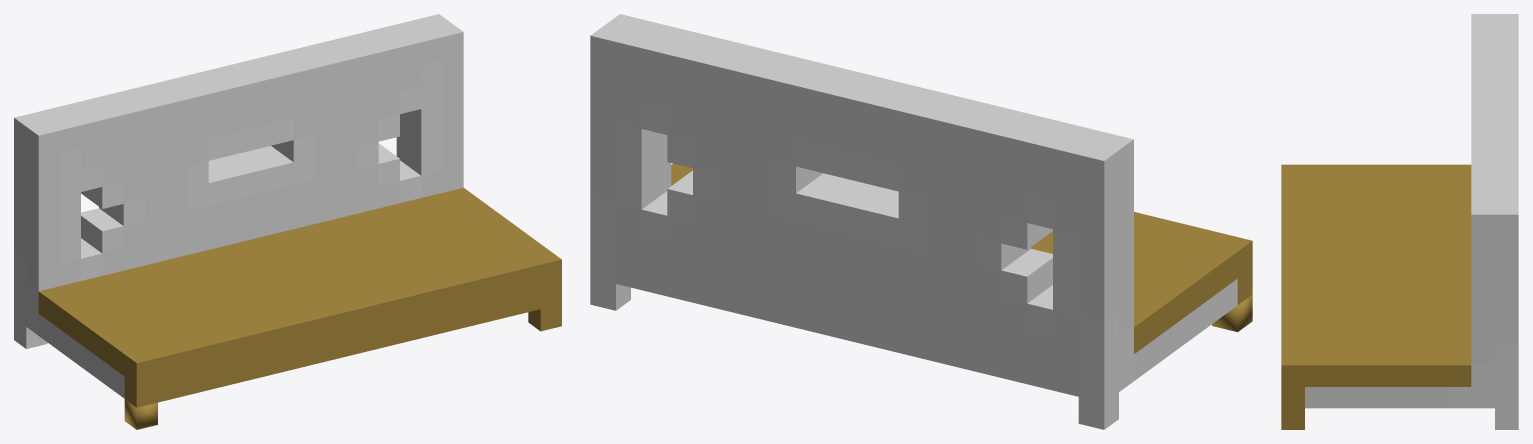
The model's file is Bench.fbx.
The picture shows the model from 3 angles, left to right: view 1: azimuth 30°, elevation 25°; view 2: azimuth 150°, elevation 25°; view 3: azimuth 270°, elevation 25°; orthographic projection. The views are drawn at different scales.
Parts seen in each view (by area): view 1: Bench:cube_3, Bench:cube_274, Bench:cube_201, Bench:cube_263, Bench:cube_264, Bench:cube_268, Bench:cube_270, Bench:cube_241, Bench:cube_266, Bench:cube_272, Bench:cube_243, Bench:cube_1 (+60 smaller); view 2: Bench:cube_202, Bench:cube_275, Bench:cube_244, Bench:cube_183, Bench:cube_188, Bench:cube_267, Bench:cube_271, Bench:cube_273, Bench:cube_185, Bench:cube_242, Bench:cube_187, Bench:cube_265 (+168 smaller); view 3: Bench:cube_177, Bench:cube_178, Bench:cube_181, Bench:cube_182, Bench:cube_641, Bench:cube_642, Bench:cube_175, Bench:cube_176, Bench:cube_179, Bench:cube_180, Bench:cube_637, Bench:cube_638 (+214 smaller).
Boxes of the visible parts, left/top/right/bottom form: Bench:cube_3: left=124, top=349, right=157, bottom=385; Bench:cube_274: left=26, top=121, right=59, bottom=157; Bench:cube_201: left=90, top=217, right=123, bottom=253; Bench:cube_263: left=26, top=260, right=59, bottom=291; Bench:cube_264: left=26, top=238, right=59, bottom=268; Bench:cube_268: left=26, top=193, right=59, bottom=224; Bench:cube_270: left=26, top=171, right=59, bottom=202; Bench:cube_241: left=409, top=145, right=442, bottom=175; Bench:cube_266: left=26, top=216, right=59, bottom=246; Bench:cube_272: left=26, top=149, right=59, bottom=179; Bench:cube_243: left=409, top=122, right=442, bottom=153; Bench:cube_1: left=124, top=399, right=157, bottom=429; Bench:cube_202: left=1001, top=259, right=1041, bottom=303; Bench:cube_275: left=1078, top=144, right=1118, bottom=187; Bench:cube_244: left=616, top=145, right=656, bottom=182; Bench:cube_183: left=1078, top=392, right=1118, bottom=429; Bench:cube_188: left=1078, top=312, right=1118, bottom=348; Bench:cube_267: left=1078, top=258, right=1118, bottom=295; Bench:cube_271: left=1078, top=204, right=1118, bottom=241; Bench:cube_273: left=1078, top=177, right=1118, bottom=214; Bench:cube_185: left=1078, top=365, right=1118, bottom=402; Bench:cube_242: left=616, top=172, right=656, bottom=209; Bench:cube_187: left=1078, top=339, right=1118, bottom=375; Bench:cube_265: left=1078, top=285, right=1118, bottom=322; Bench:cube_177: left=1328, top=355, right=1352, bottom=386; Bench:cube_178: left=1352, top=355, right=1376, bottom=386; Bench:cube_181: left=1423, top=355, right=1447, bottom=386; Bench:cube_182: left=1447, top=355, right=1471, bottom=386; Bench:cube_641: left=1471, top=204, right=1494, bottom=236; Bench:cube_642: left=1495, top=204, right=1518, bottom=236; Bench:cube_175: left=1281, top=355, right=1304, bottom=386; Bench:cube_176: left=1305, top=355, right=1328, bottom=386; Bench:cube_179: left=1376, top=355, right=1399, bottom=386; Bench:cube_180: left=1400, top=355, right=1423, bottom=386; Bench:cube_637: left=1471, top=257, right=1494, bottom=279; Bench:cube_638: left=1495, top=257, right=1518, bottom=279.
Bounding box in the file's own units: 20 × 10 × 10.
